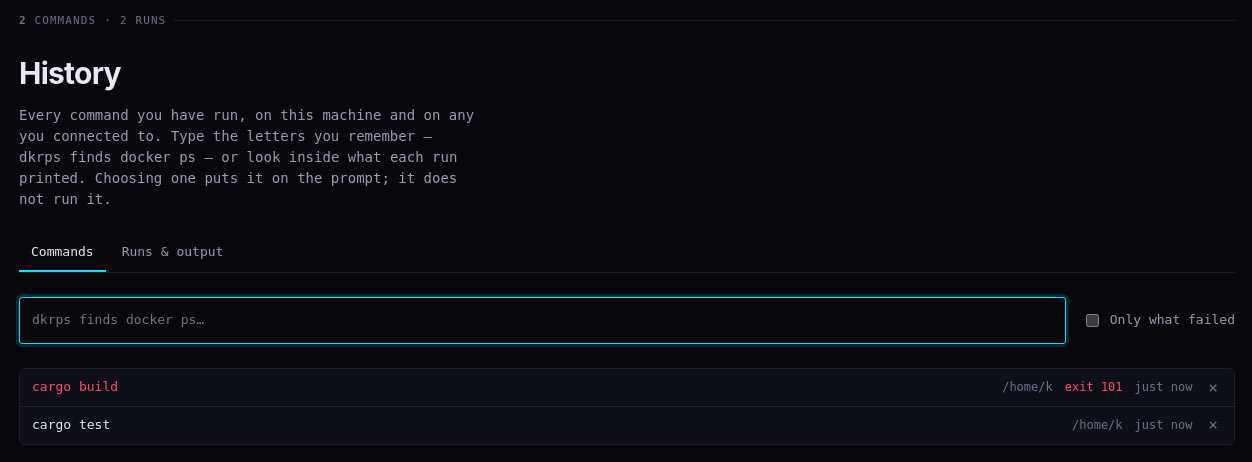
Test: the history section › narrows to what failed
Expected: the button "cargo test" is shown, [32,415,1060,436]
Step 1. Click the checkbox labelled "Only what failed" → {"x": 1092, "y": 321}, box [1086,314,1099,327]
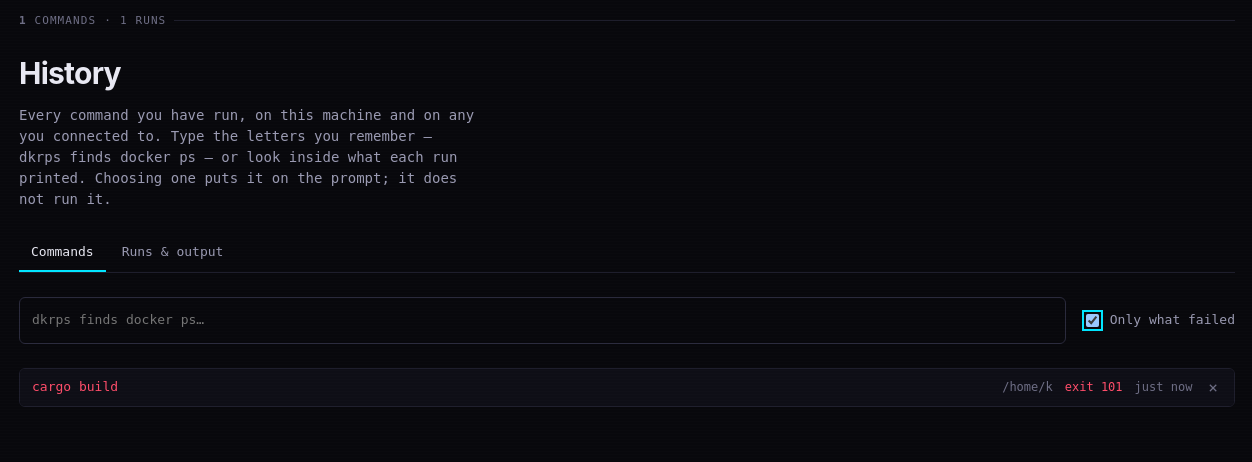
Expected: the button "cargo build" is shown, [32,377,990,398]
Result: the button "cargo test" is gone
